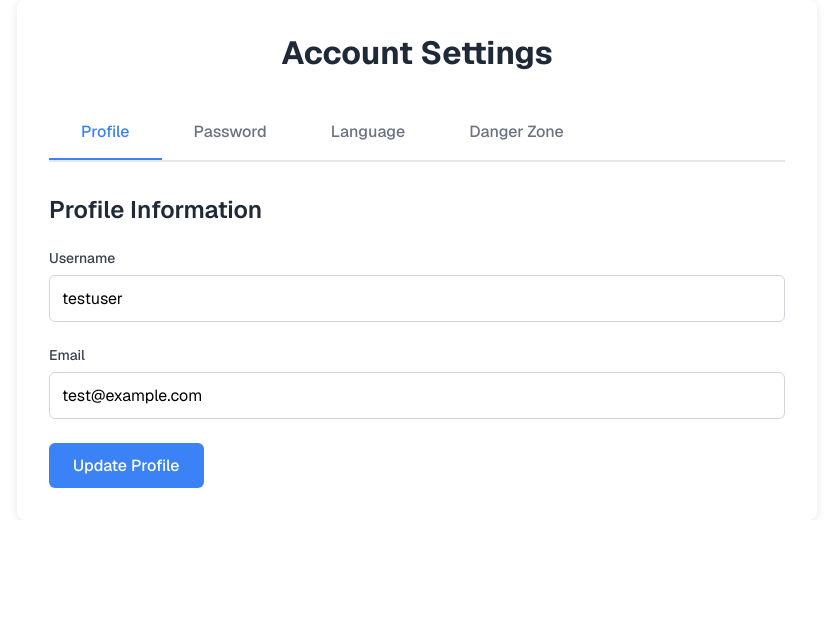
Scenario: AccountSettings › switches to danger zone tab when clicked
Click the button "Danger Zone": (516,132) [437,105,596,160]
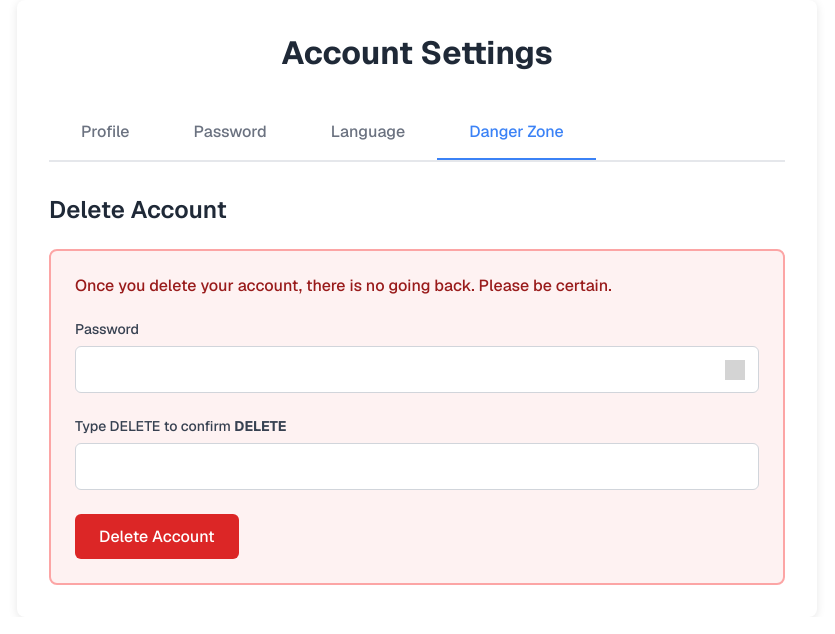
Check: the heading "Delete Account" is shown, box [49,194,227,225]
Check: the text "Once you delete your account, there is no going back. Please be certain." is shown, box [75,275,612,296]
